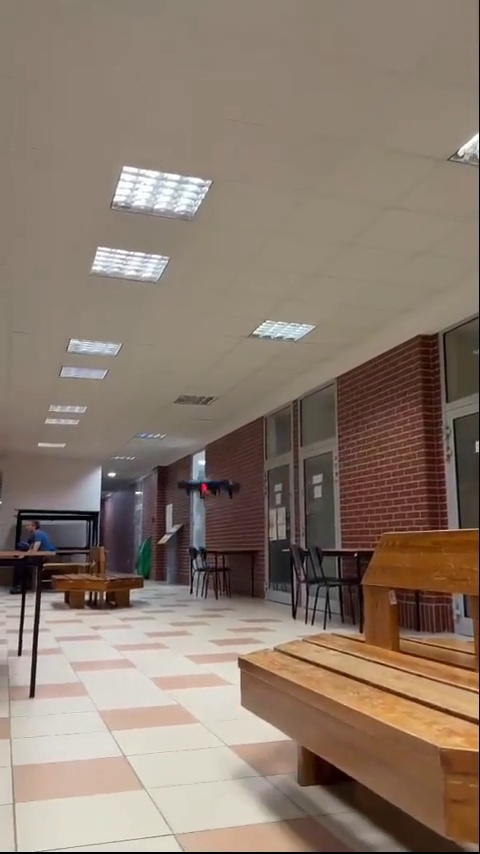drone: (176, 472, 240, 502)
no vest: (14, 518, 53, 566)
